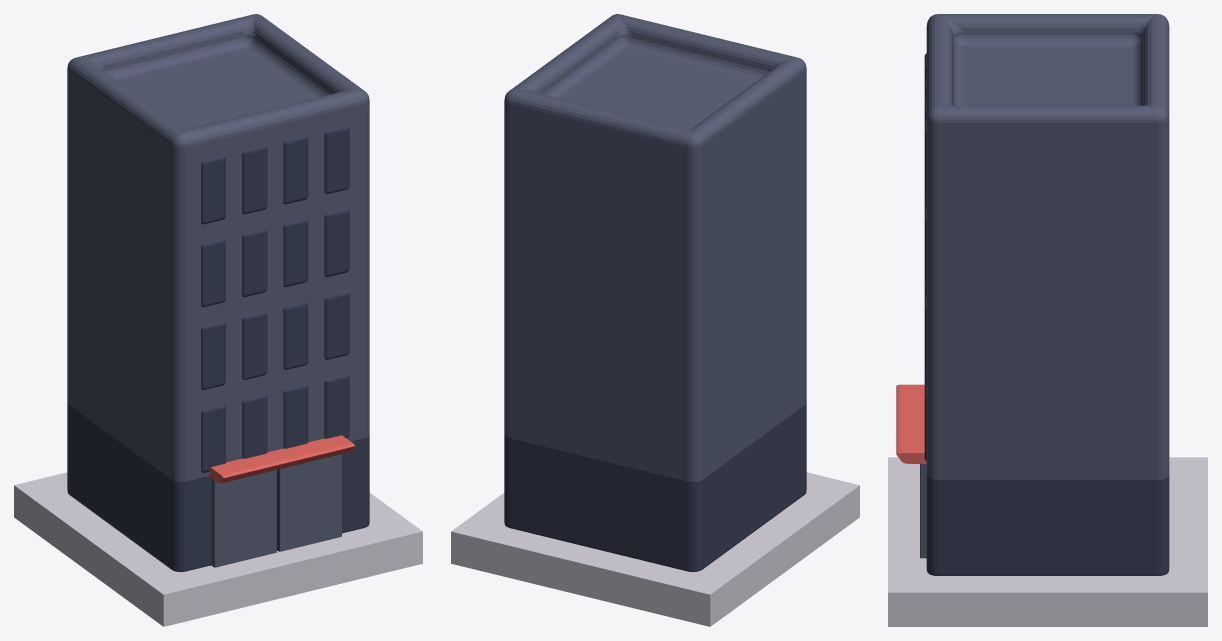
File: concrete_tall_building.fbx
3 renders of one model, left to right at view 1: azimuth 30°, elevation 25°; view 2: azimuth 150°, elevation 25°; view 3: azimuth 270°, elevation 25°, orthographic. The views are drawn at different scales.
Visible parts, largest first — view 1: building, window, Cube.044, building door, roof; view 2: building, Cube.044; view 3: building, Cube.044, roof, window, building door.
Boxes of the visible parts, x1,y1,x2,y2 form: building: (67, 14, 369, 571); window: (201, 125, 349, 472); Cube.044: (14, 472, 422, 626); building door: (211, 454, 341, 567); roof: (209, 435, 355, 483); building: (504, 14, 806, 571); Cube.044: (451, 472, 859, 626); building: (926, 14, 1169, 575); Cube.044: (888, 457, 1207, 626); roof: (896, 384, 926, 463); window: (924, 53, 926, 461); building door: (920, 464, 926, 558).
Size of the model in its own units: 205 by 352 by 205.
